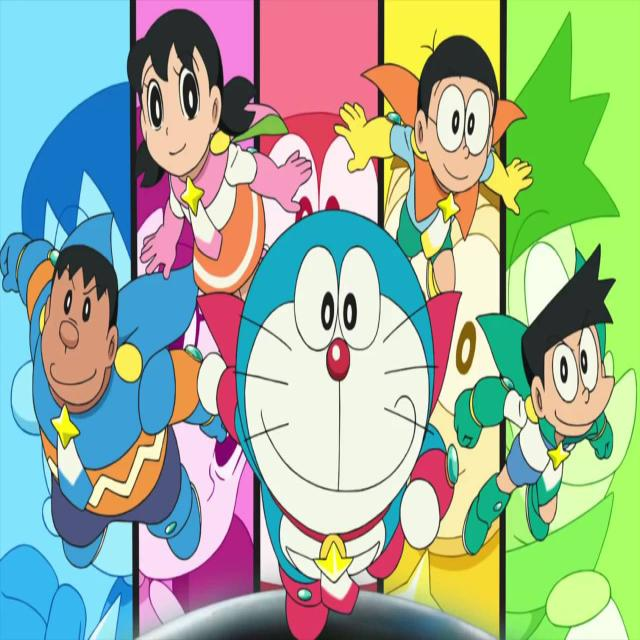doraemon: (225, 199, 440, 573)
jaian: (36, 238, 122, 427)
nobita: (412, 26, 498, 202)
shizuka: (126, 2, 260, 194)
suneo: (517, 246, 619, 455)
